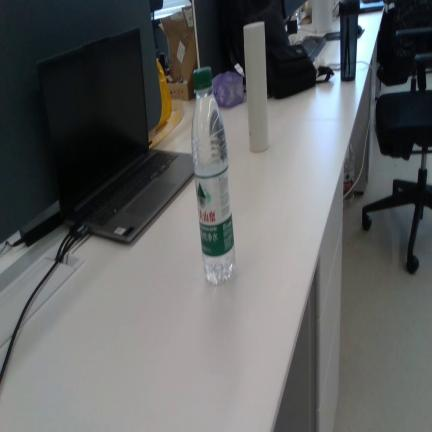bottle: (191, 67, 235, 284)
